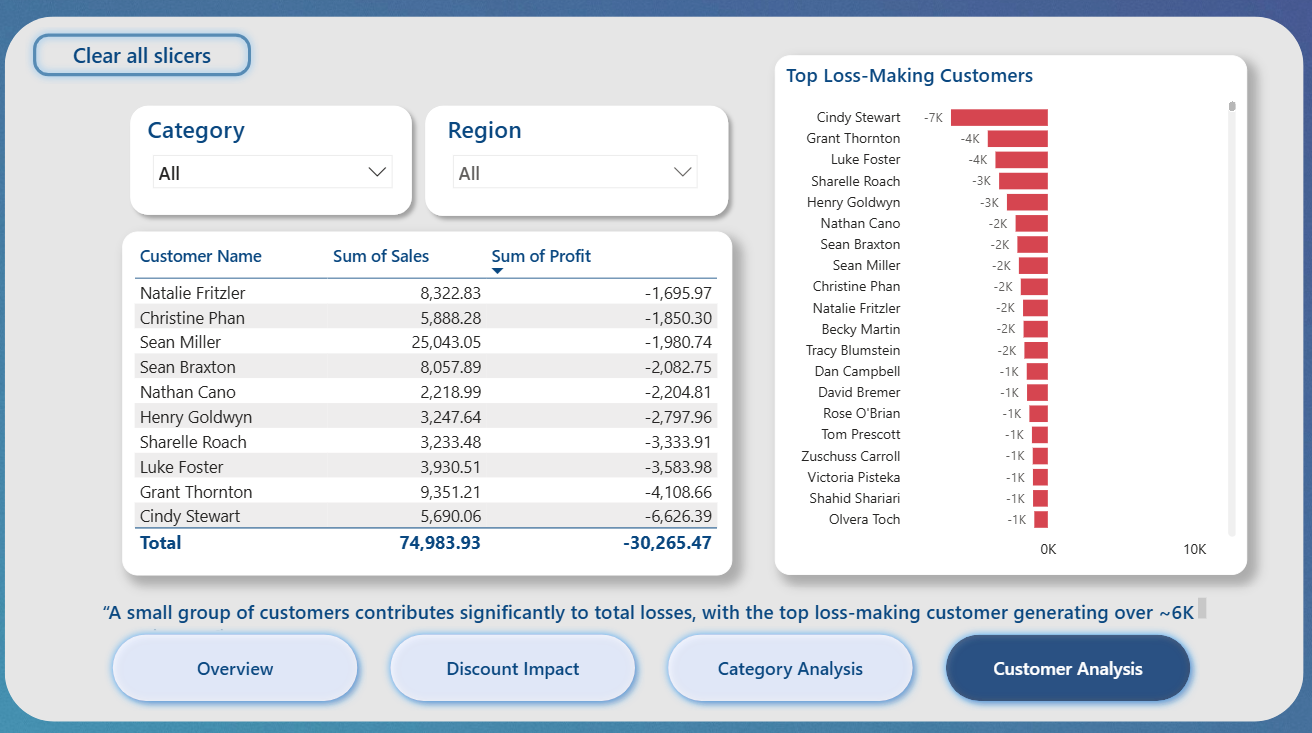

Layout of this report page (visuals, bound fields, positions):
{"tool":"powerbi","page":{"name":"Customer Analysis","canvas":[1280,720],"ordinal":3},"visuals":[{"type":"shape","box":[13.3,21.7,1253.5,680.4],"z":0},{"type":"tableEx","fields":{"Values":["revenue analysis.Customer Name","Sum(revenue analysis.Sales)","Sum(revenue analysis.Profit)"]},"box":[126.6,228.8,589,332.2],"z":1000},{"type":"pageNavigator","box":[108.6,609.3,1061.7,82],"z":2000},{"type":"group","id":"g1","title":"Group 1","box":[410.2,98.9,310.1,124.3],"z":3000},{"type":"group","id":"g2","title":"Group 2","box":[125.5,98.9,289.5,123.1],"z":4000},{"type":"clusteredBarChart","title":"Top Loss-Making Customers","fields":{"Category":["revenue analysis.Customer Name"],"Y":["Sum(revenue analysis.Profit)"]},"box":[757,59.6,456.4,501.4],"z":5000},{"type":"actionButton","box":[32.9,30.4,226.4,57.2],"z":6000},{"type":"shape","box":[410.2,98.9,310.3,124.1],"z":7000,"group":"g1"},{"type":"textbox","box":[102.2,578.1,1075.8,41.4],"z":7000},{"type":"slicer","title":"Region","fields":{"Values":["revenue analysis.Region"]},"box":[435.3,114.3,256.5,97.4],"z":8000,"group":"g1"},{"type":"shape","box":[125.5,98.9,289.5,123.1],"z":9000,"group":"g2"},{"type":"slicer","title":"Category","fields":{"Values":["revenue analysis.Category"]},"box":[146.3,115.1,251.2,97.8],"z":11000,"group":"g2"}]}

Visuals, with their boxes in screenshot pixels (x1, y1, x2, y2), scaled from the page's 1280x720 canvas onto the 1312x733 screenshot:
shape: Rect(14, 22, 1298, 715)
tableEx - revenue analysis.Customer Name x Sum(revenue analysis.Sales): Rect(130, 233, 733, 571)
pageNavigator: Rect(111, 620, 1200, 704)
"Group 1" group: Rect(420, 101, 738, 227)
"Group 2" group: Rect(129, 101, 425, 226)
"Top Loss-Making Customers" clusteredBarChart: Rect(776, 61, 1244, 571)
actionButton: Rect(34, 31, 266, 89)
shape: Rect(420, 101, 739, 227)
textbox: Rect(105, 589, 1207, 631)
"Region" slicer: Rect(446, 116, 709, 216)
shape: Rect(129, 101, 425, 226)
"Category" slicer: Rect(150, 117, 407, 217)
